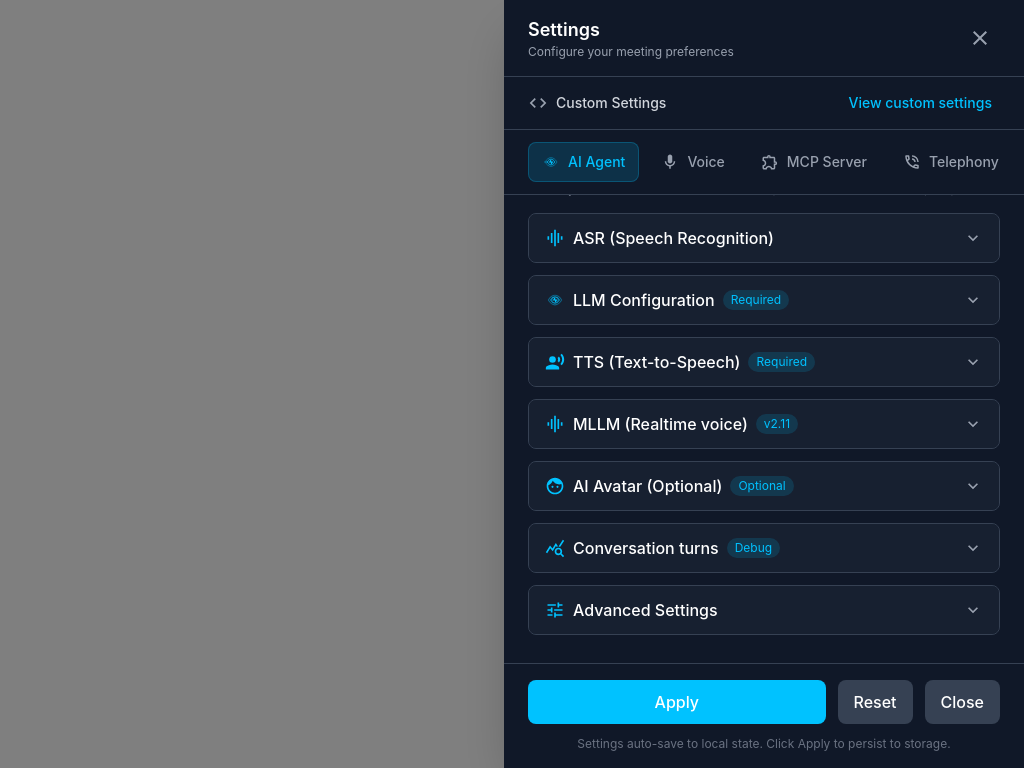
SettingsSidebar transcript transport › exposes the v2.11 pipeline and runtime controls in the form
(page scrolled)
expect the button "MLLM (Realtime voice) v2.11" is shown: met, box top-left (529, 400), bottom-right (999, 448)
Click the button "Advanced Settings" at (645, 610), box top-left (529, 586), bottom-right (999, 634)
(page scrolled)
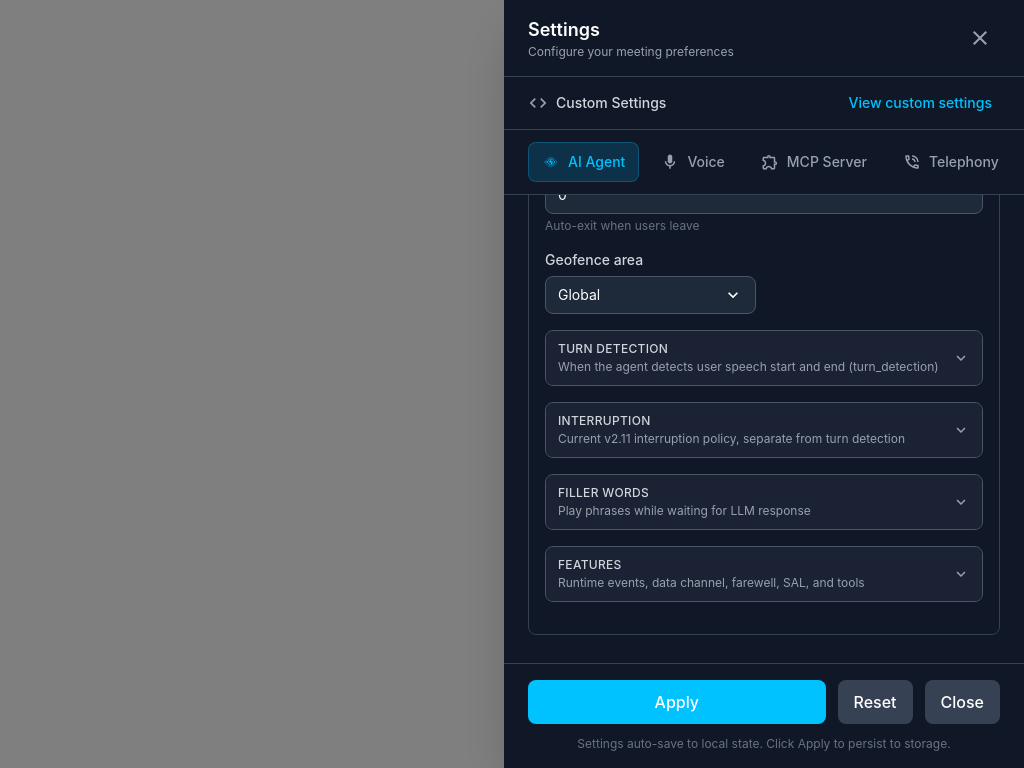
expect the heading "Interruption" is shown: met, box top-left (558, 413), bottom-right (650, 428)
expect the text "Geofence area" is shown: met, box top-left (545, 250), bottom-right (643, 270)
Click the button "Features" at (764, 574), box top-left (546, 547), bottom-right (982, 601)
(page scrolled)
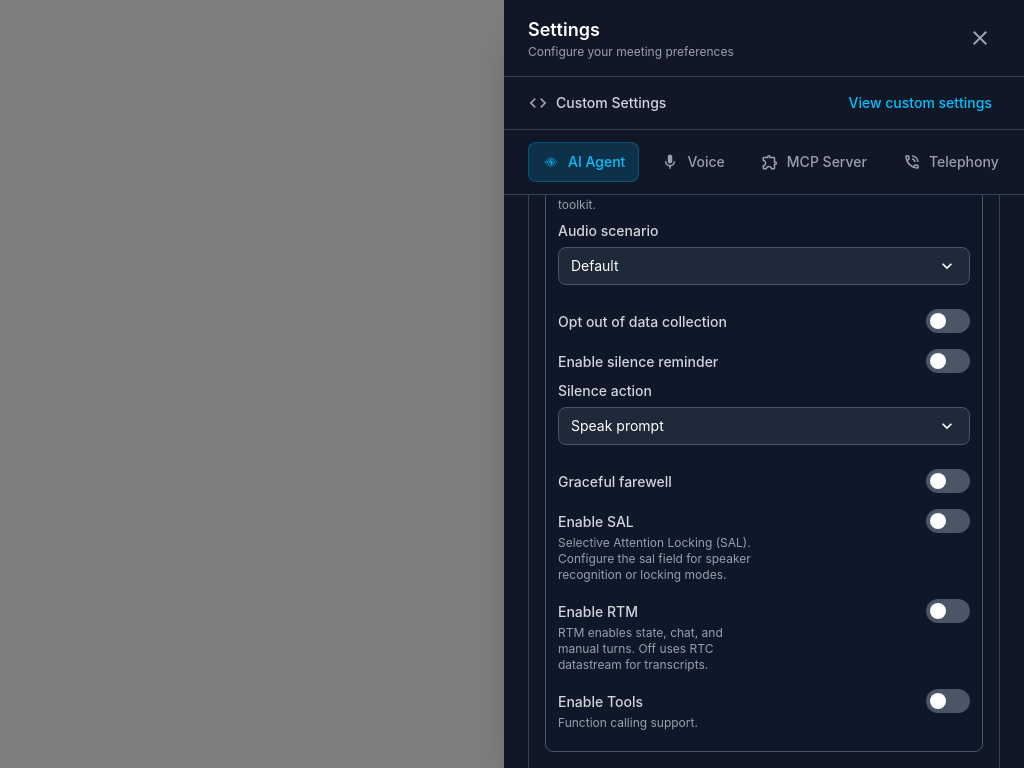
expect the text "Graceful farewell" is shown: met, box top-left (558, 473), bottom-right (672, 490)
